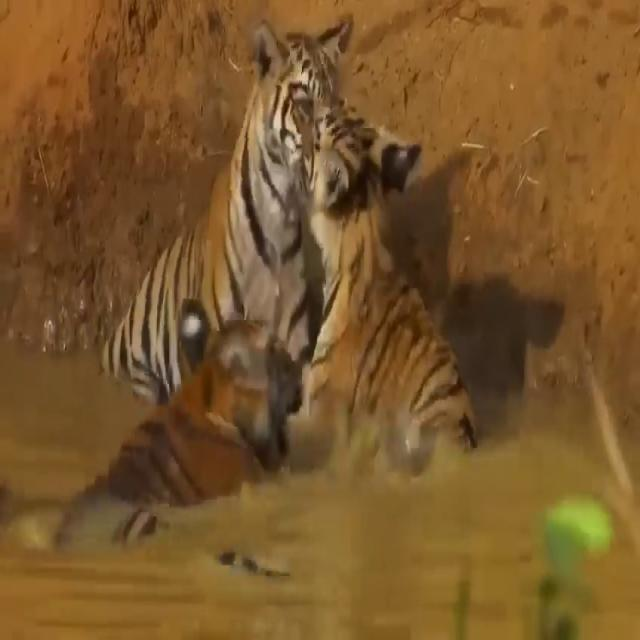tiger: (94, 12, 358, 402), (282, 86, 483, 473), (52, 294, 304, 582)
